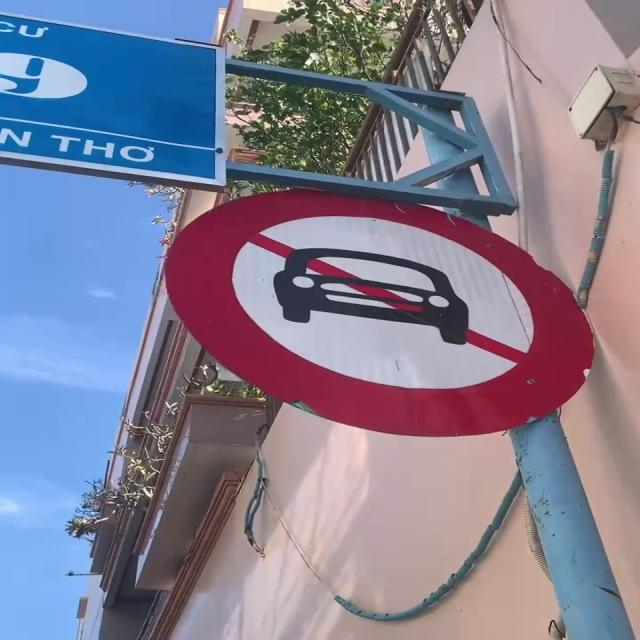Cam_O_To: (160, 180, 596, 438)
